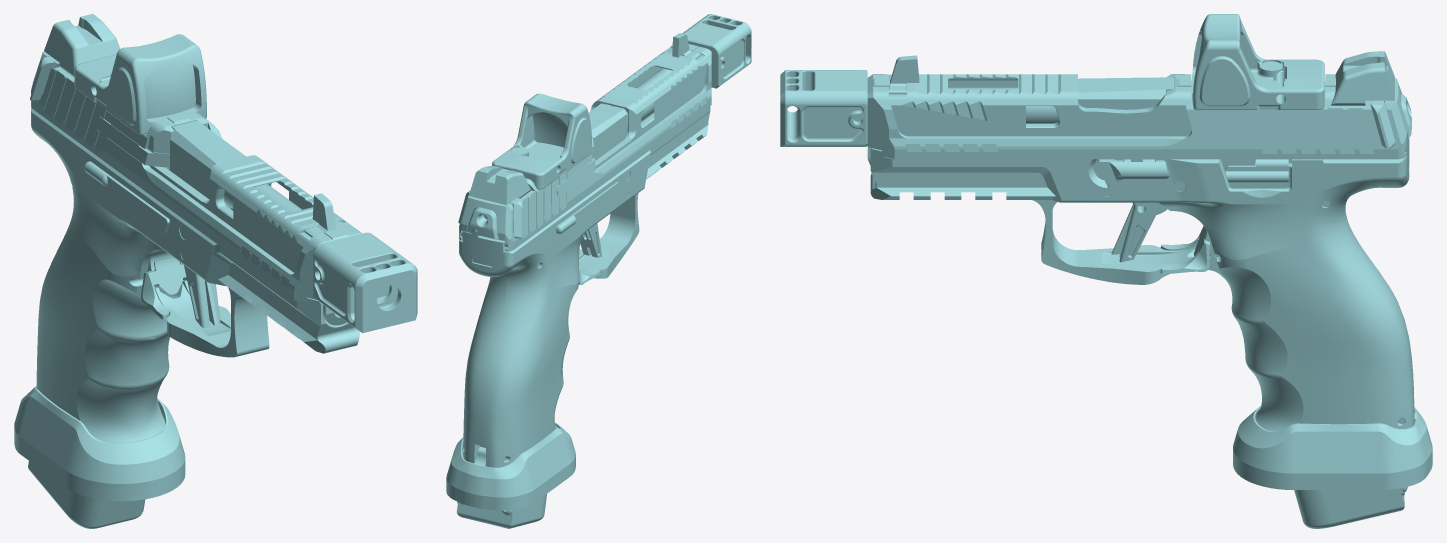
The model's file is chambre_gun.fbx.
3 views of the same model, side by side, from view 1: azimuth 30°, elevation 25°; view 2: azimuth 150°, elevation 25°; view 3: azimuth 270°, elevation 25° (orthographic). The views are drawn at different scales.
Visible parts, largest first — view 1: msh_cha_gun; view 2: msh_cha_gun; view 3: msh_cha_gun.
Boxes of the visible parts, x1,y1,x2,y2 form: msh_cha_gun: (14, 14, 417, 528); msh_cha_gun: (446, 14, 751, 528); msh_cha_gun: (780, 14, 1432, 528).
Bounding box in the file's own units: 6.73 × 29.62 × 35.75.
